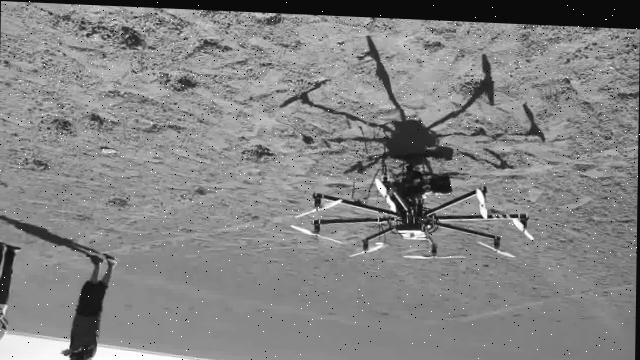drone: (0, 0, 640, 278)
